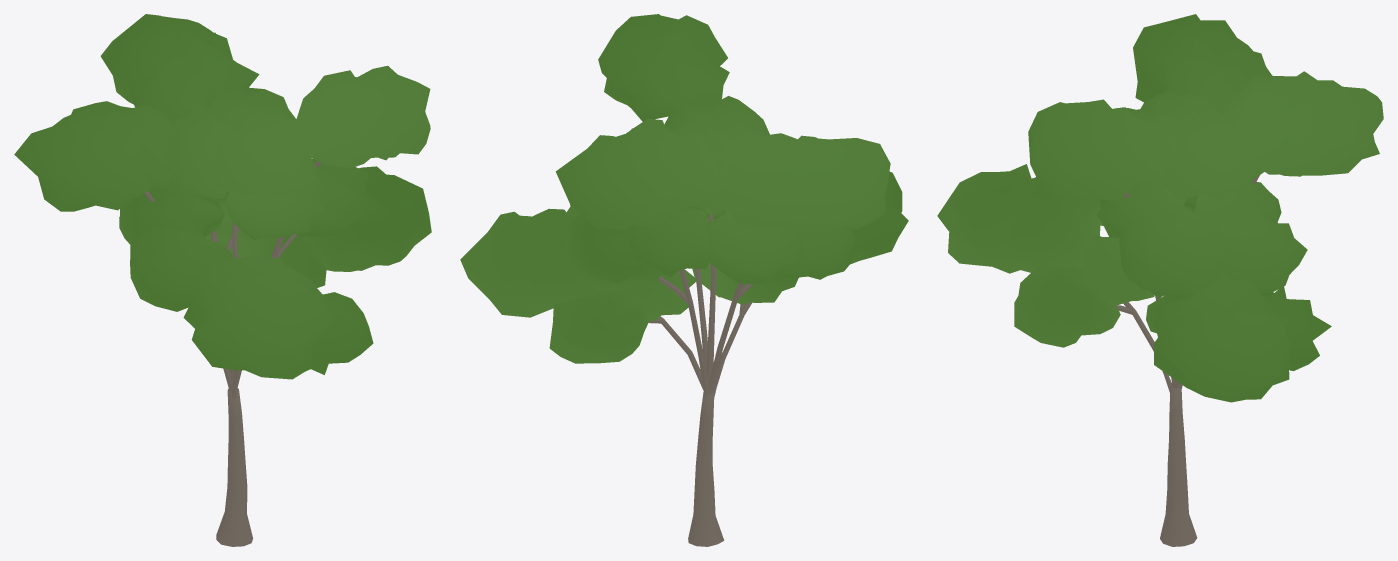
File: Blender_Pecan_2.glb
The picture shows the model from 3 angles, left to right: view 1: azimuth 30°, elevation 25°; view 2: azimuth 150°, elevation 25°; view 3: azimuth 270°, elevation 25°; orthographic projection. The views are drawn at different scales.
Parts seen in each view (by area): view 1: Blender_Pecan_2; view 2: Blender_Pecan_2; view 3: Blender_Pecan_2.
Boxes of the visible parts, <box> form: Blender_Pecan_2: <box>14,14,431,546</box>; Blender_Pecan_2: <box>460,14,908,546</box>; Blender_Pecan_2: <box>937,14,1383,546</box>.
Size of the model in its own units: 21.52 by 24.32 by 20.69.
